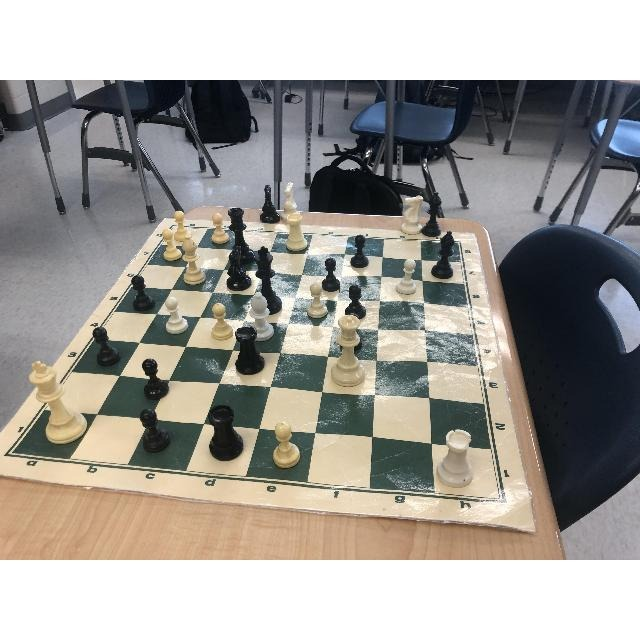black-bishop: (431, 231, 454, 279)
black-king: (252, 246, 282, 315)
black-knight: (226, 247, 251, 291)
black-pawn: (140, 408, 169, 452), (93, 327, 121, 366), (142, 358, 168, 399), (132, 275, 154, 311), (346, 284, 366, 320), (351, 234, 369, 268), (322, 258, 340, 292)
black-queen: (227, 208, 254, 264)
black-rook: (208, 405, 244, 461), (235, 326, 265, 375)
white-bishop: (249, 293, 273, 341), (182, 235, 205, 285)
white-king: (29, 361, 88, 445)
white-pawn: (274, 422, 300, 468), (165, 296, 189, 334), (211, 303, 232, 341), (308, 282, 328, 317), (396, 259, 416, 294), (162, 228, 182, 260), (211, 213, 229, 243), (174, 211, 190, 241)
white-queen: (331, 314, 365, 387)
white-rook: (437, 428, 473, 487), (286, 213, 308, 251)
